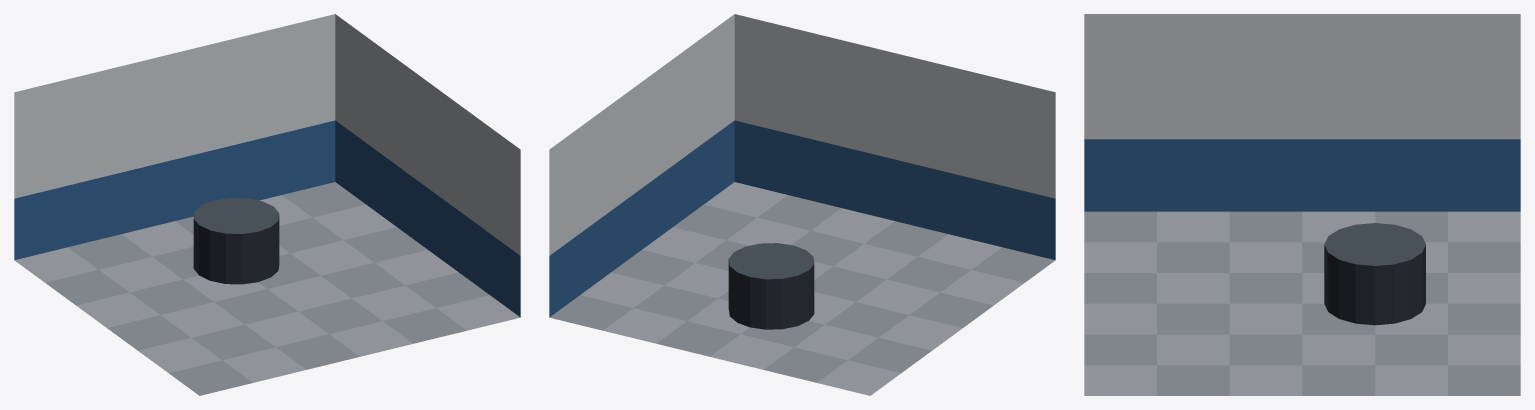
The model's file is room.glb.
3 views of the same model, side by side, from view 1: azimuth 30°, elevation 25°; view 2: azimuth 150°, elevation 25°; view 3: azimuth 270°, elevation 25° (orthographic). The views are drawn at different scales.
Parts seen in each view (by area): view 1: KlaslokaalShell; view 2: KlaslokaalShell; view 3: KlaslokaalShell.
Part boxes in pixels (x1,y1,x2,y2): KlaslokaalShell: [14, 14, 520, 395]; KlaslokaalShell: [549, 14, 1055, 395]; KlaslokaalShell: [1084, 14, 1520, 395].
Bounding box in the file's own units: 6 × 3 × 6.
